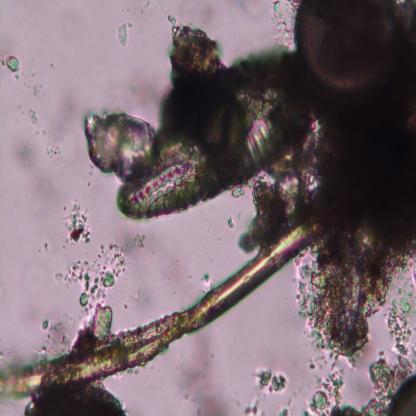Background material: (310, 2, 416, 351), (236, 146, 318, 247), (72, 106, 155, 178), (170, 326, 233, 408), (8, 132, 61, 209), (68, 242, 124, 307), (159, 17, 219, 75), (294, 251, 324, 347), (22, 389, 125, 416), (37, 305, 93, 354), (110, 219, 162, 271), (386, 284, 416, 370), (306, 360, 350, 416), (58, 203, 92, 244), (267, 3, 292, 47), (90, 298, 113, 342), (257, 367, 287, 394), (237, 391, 267, 415), (42, 134, 69, 154), (0, 55, 21, 80), (115, 24, 130, 48), (29, 110, 45, 131), (137, 3, 159, 14), (197, 272, 209, 282), (280, 406, 289, 414)
Diatom: (115, 47, 302, 219), (294, 1, 399, 90), (382, 376, 416, 414)
Microfibre: (0, 220, 320, 398)
